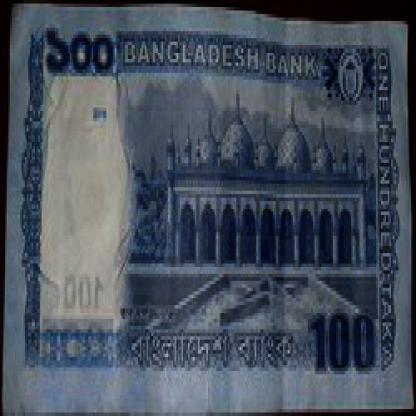one hundred taka: (308, 301, 378, 378), (43, 21, 118, 80)
